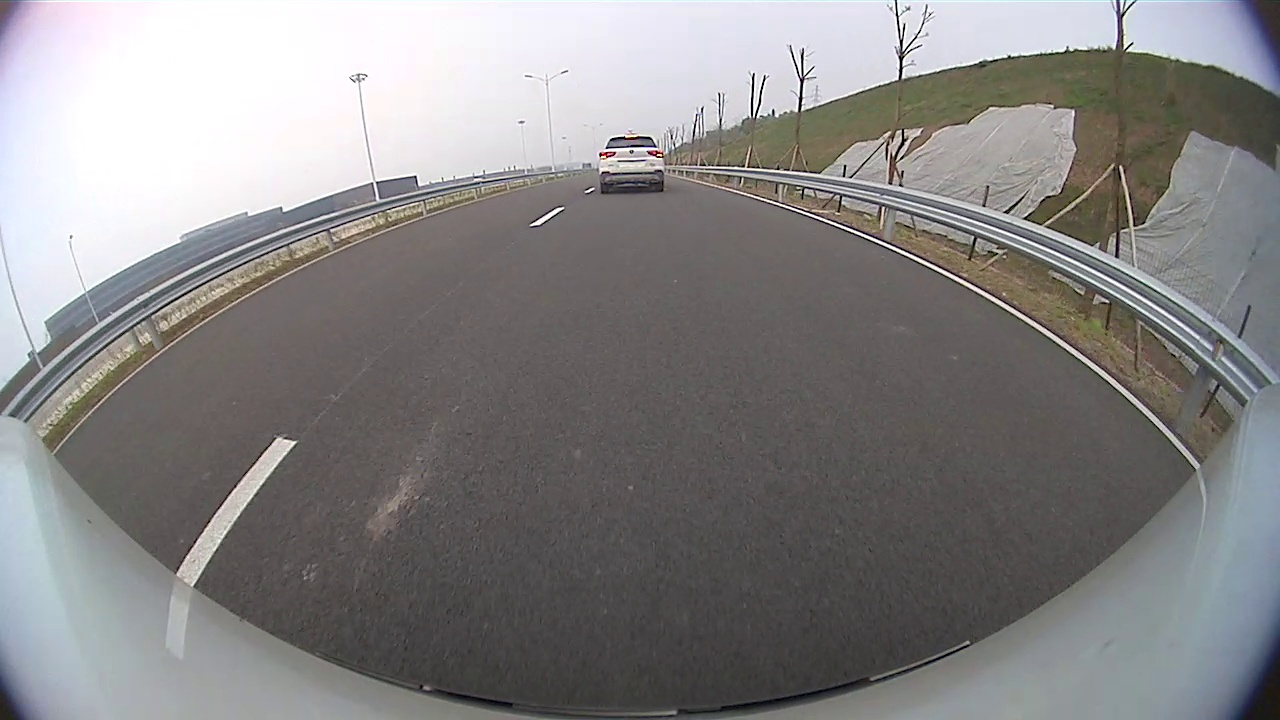car: (598, 133, 668, 199)
